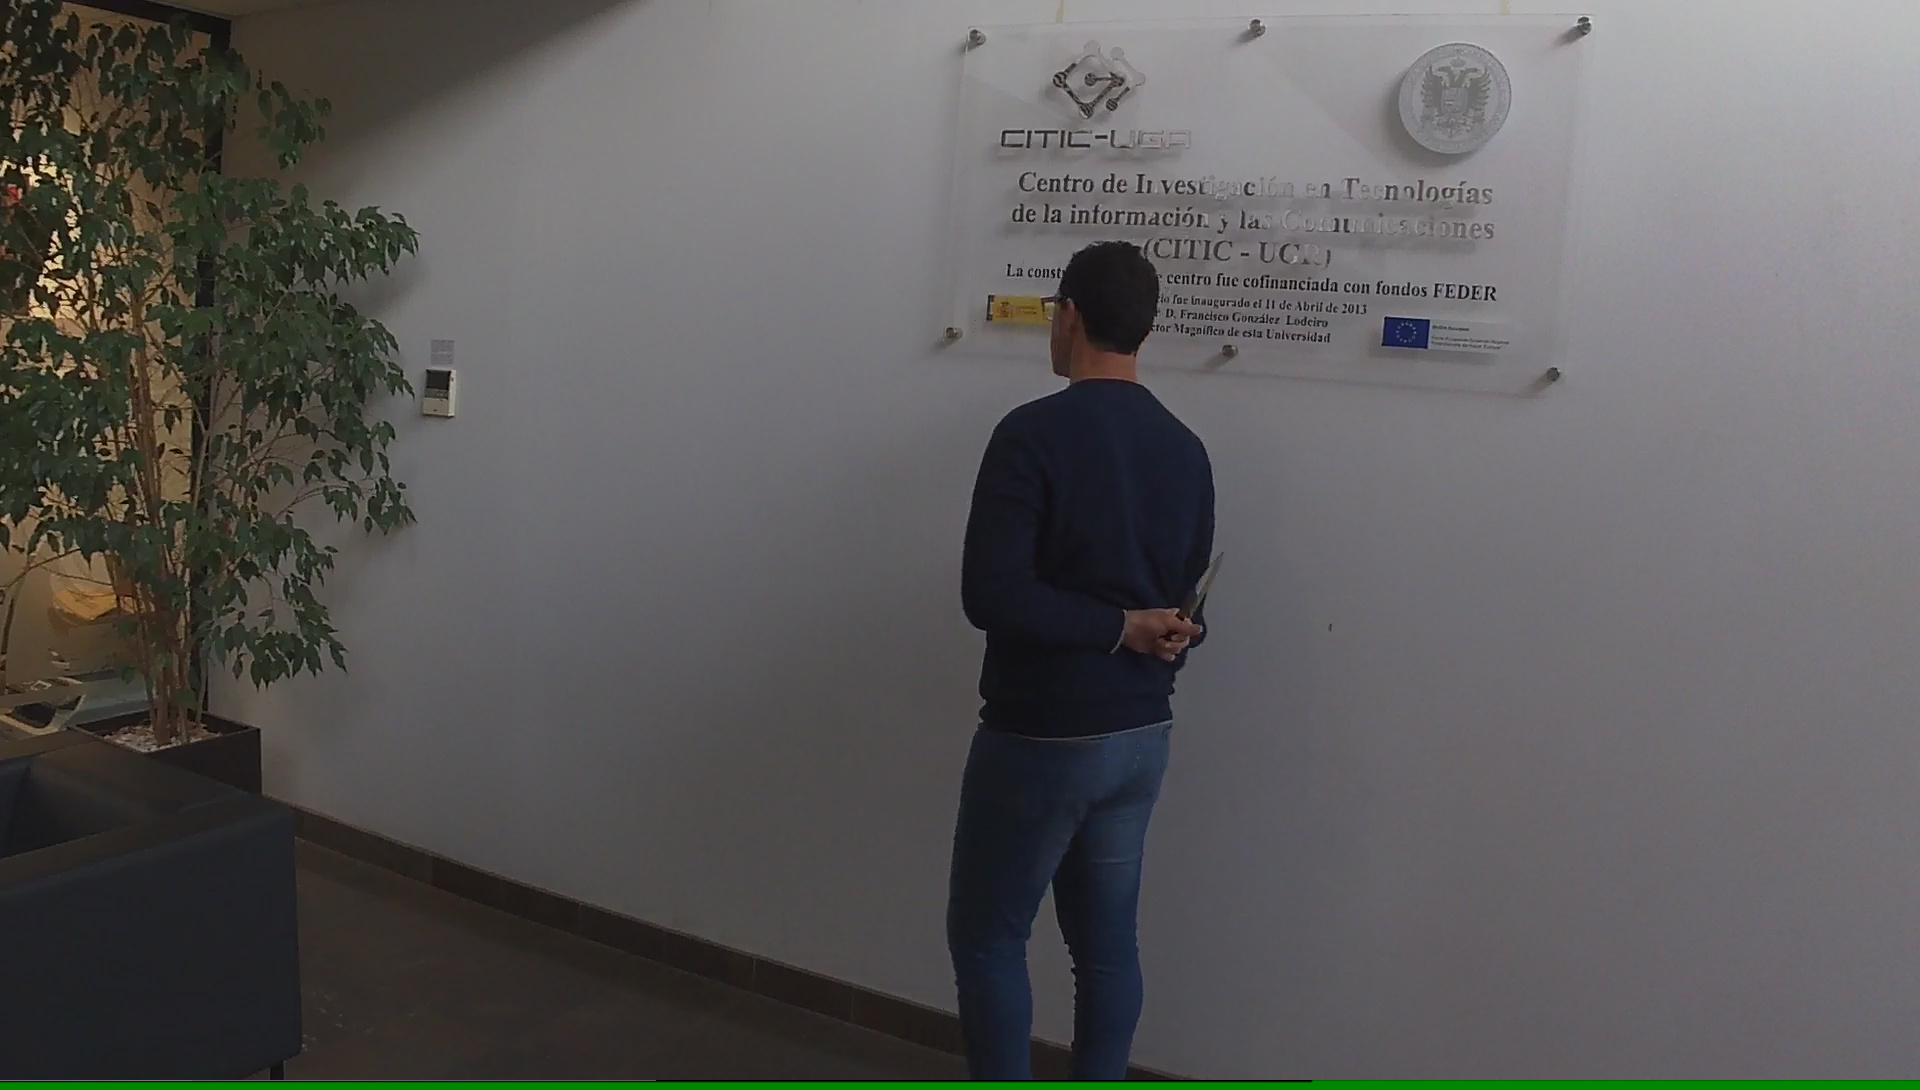knife: (1154, 540, 1236, 670)
